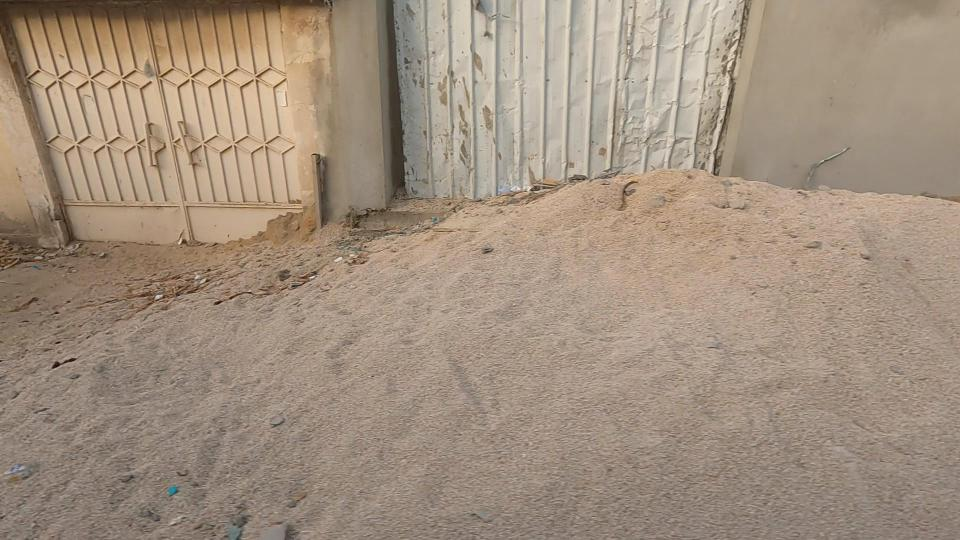GARBAGE: (214, 230, 400, 321), (100, 240, 256, 339)
SAND_ON_ROAD: (0, 196, 960, 540)
